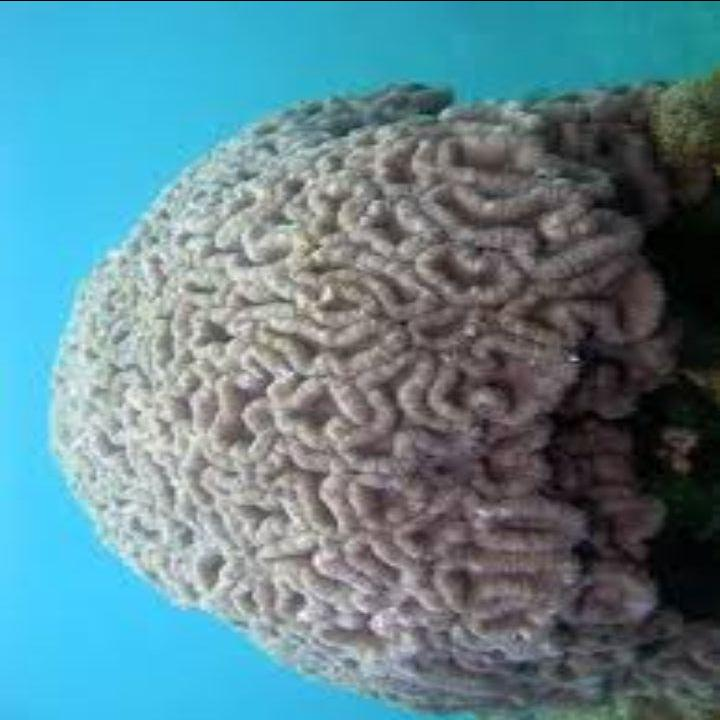Dead Coral: (40, 77, 656, 662)
